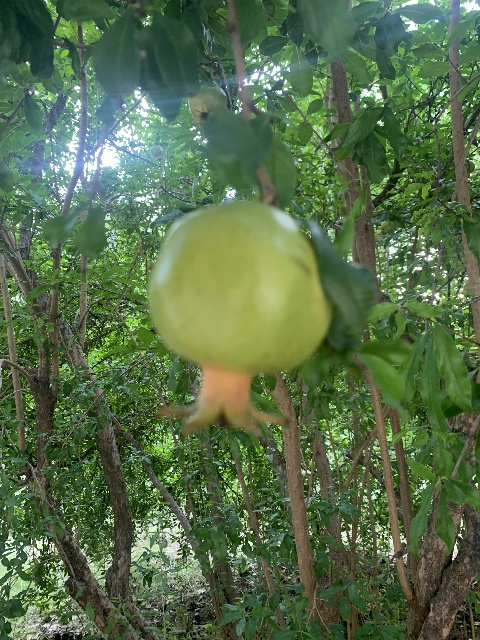mid-growth: (146, 204, 332, 441), (188, 81, 228, 124), (150, 145, 163, 160)
